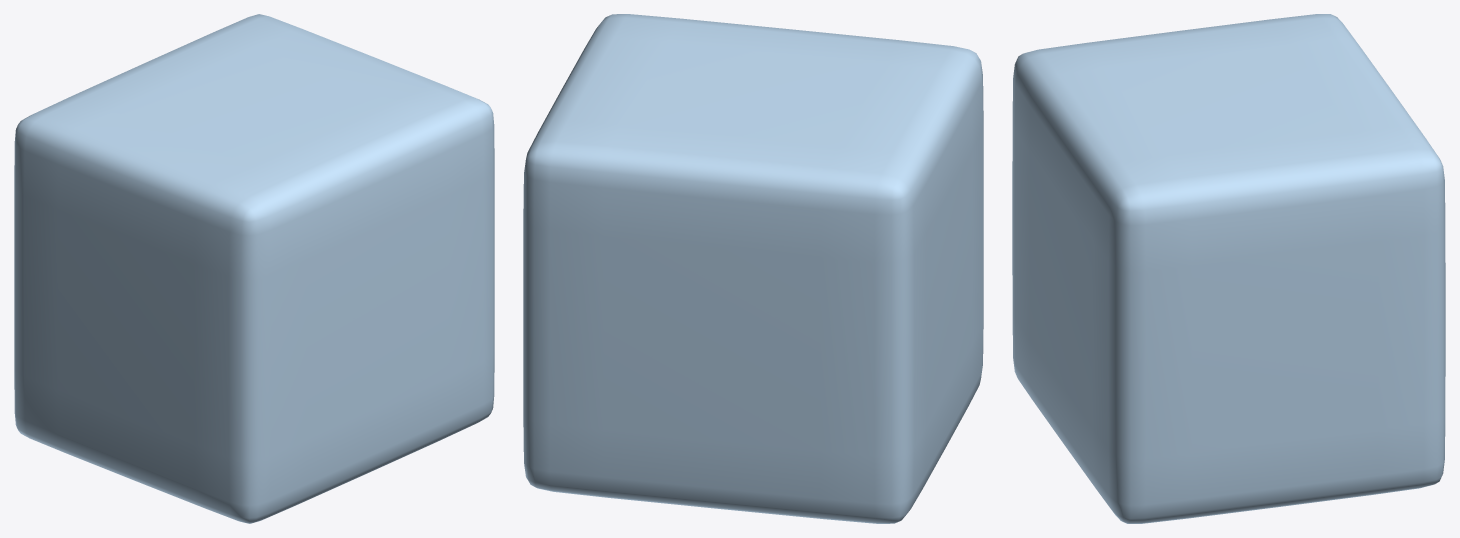
The model's file is PROP_Bucket_v1.glb.
The picture shows the model from 3 angles, left to right: view 1: azimuth 30°, elevation 25°; view 2: azimuth 150°, elevation 25°; view 3: azimuth 270°, elevation 25°; orthographic projection. The views are drawn at different scales.
Parts seen in each view (by area): view 1: PROP_Bucket_v1; view 2: PROP_Bucket_v1; view 3: PROP_Bucket_v1.
Boxes of the visible parts, x1,y1,x2,y2 form: PROP_Bucket_v1: (14, 14, 494, 523); PROP_Bucket_v1: (523, 14, 983, 523); PROP_Bucket_v1: (1012, 14, 1445, 523).
Bounding box in the file's own units: 1.25 × 1.02 × 1.18.
